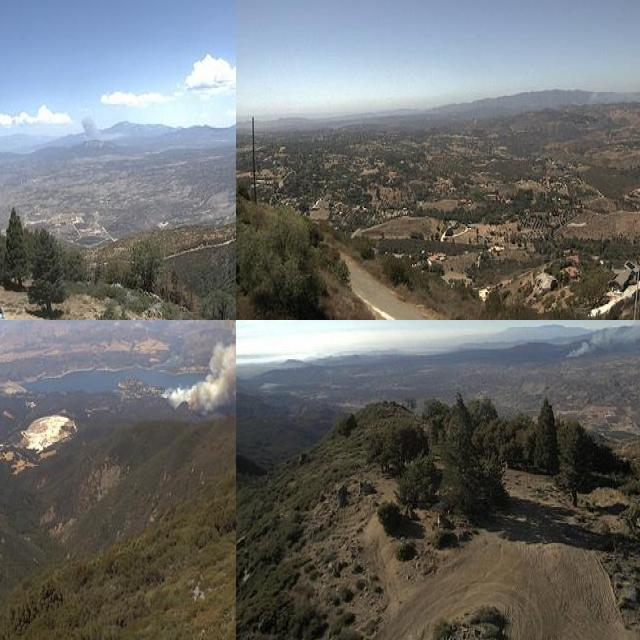smoke: (560, 320, 640, 361), (583, 77, 640, 106), (74, 112, 126, 141)
